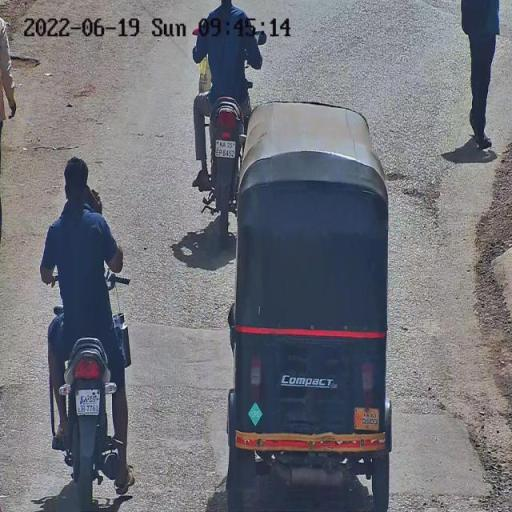using mobile: (81, 183, 104, 212)
